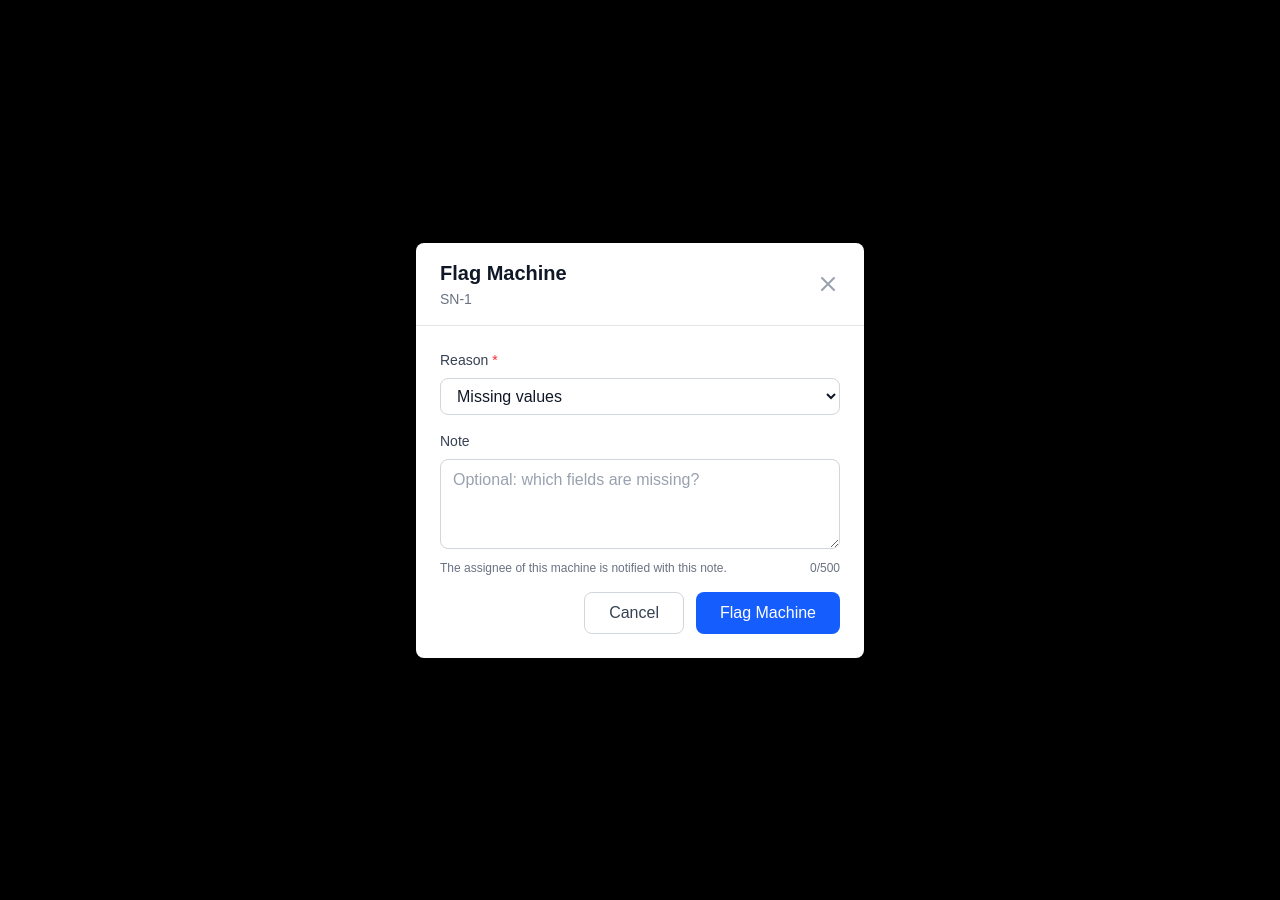
FlagMachineModal › requires a note when the reason is Other
Expected: the button "Flag Machine" is enabled, [696, 592, 840, 634]
Step 1. Select "Other" in the dropdown labelled "Reason *" → (640, 396), box [440, 378, 840, 414]
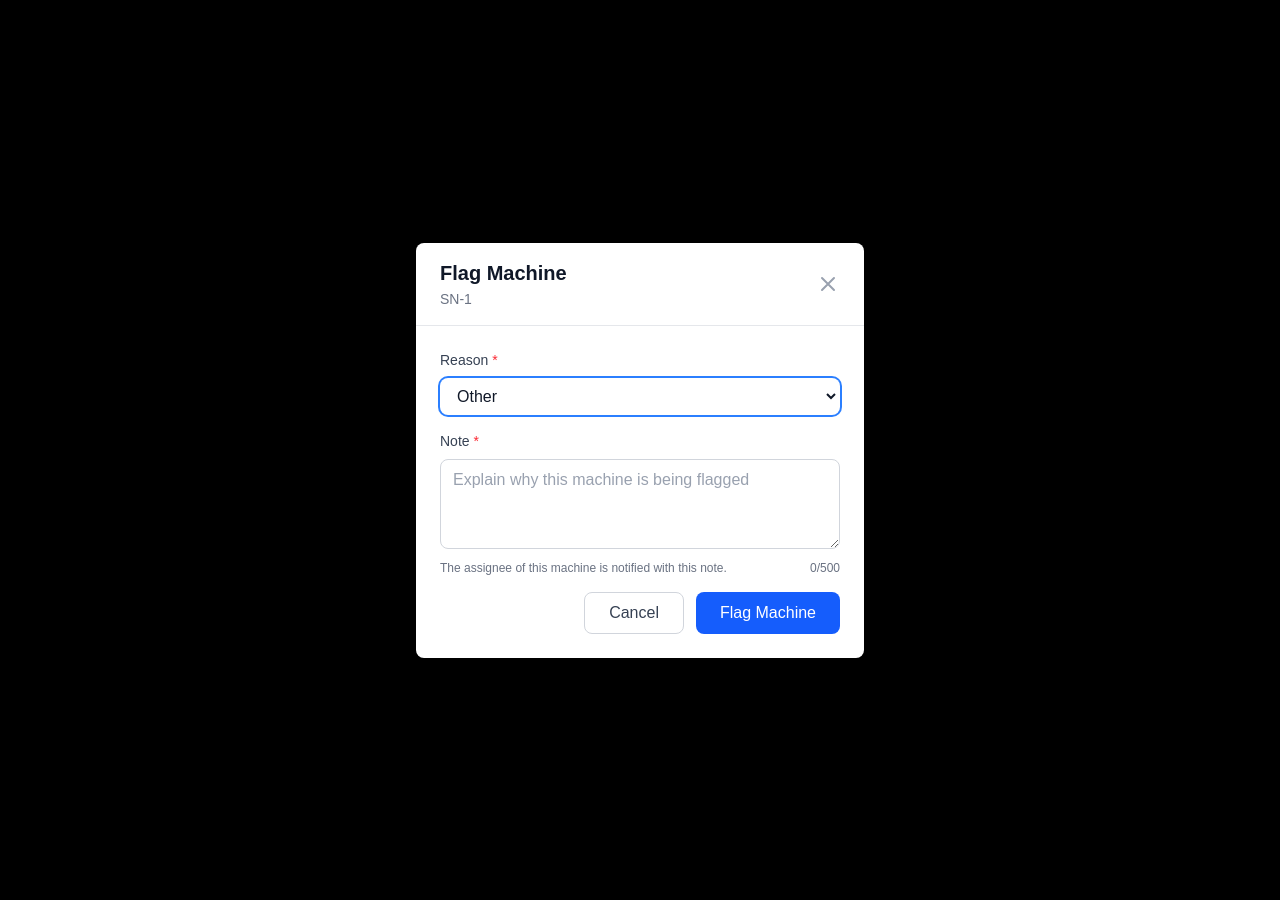
Step 2. Click the button "Flag Machine" → (768, 612), box [696, 592, 840, 634]
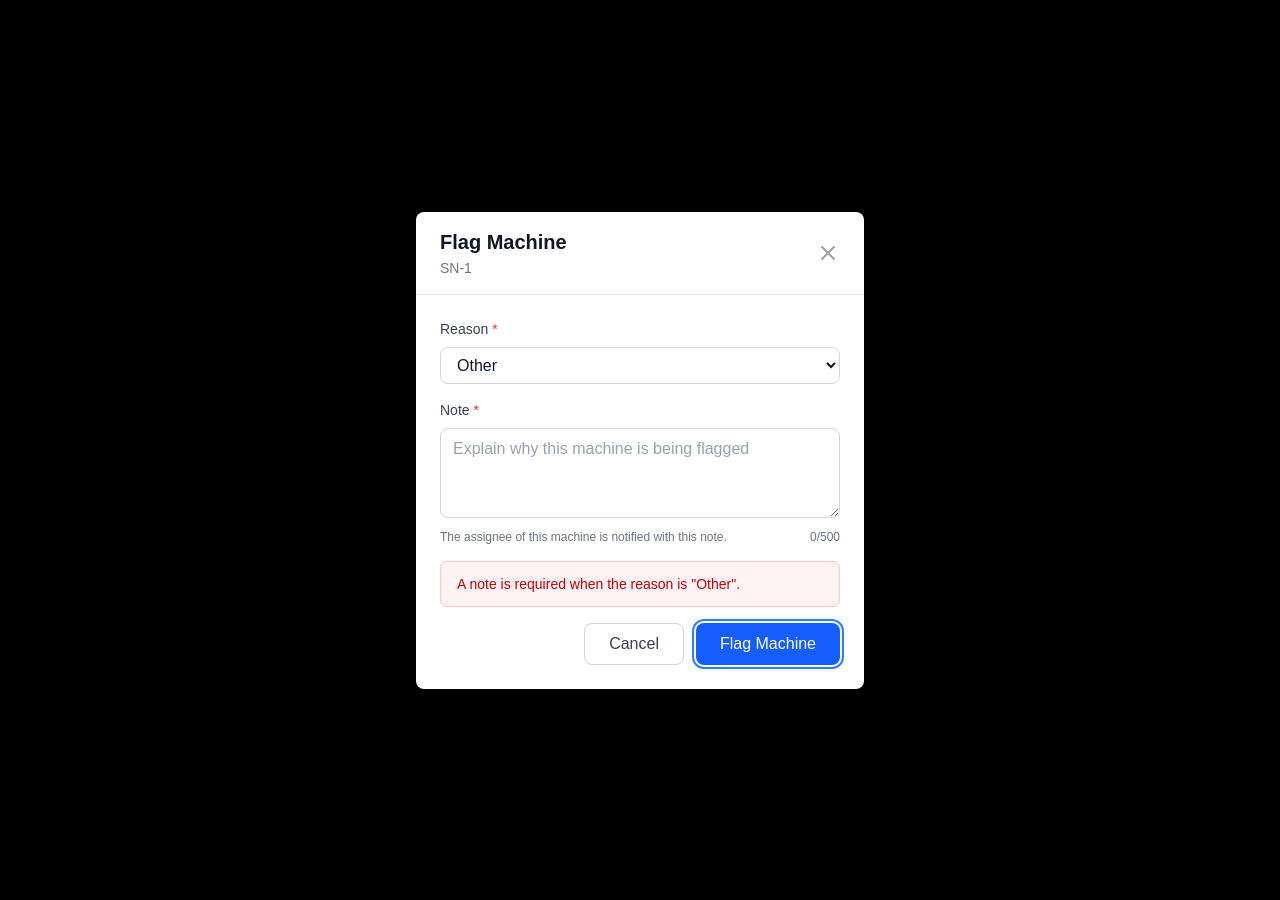
Expected: the text "A note is required when the reason is \"Other\"." is shown, [440, 560, 840, 606]
